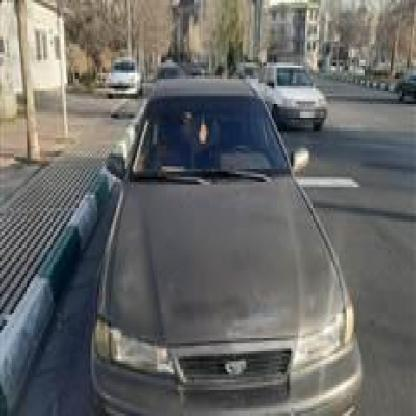Car: (102, 75, 369, 416), (255, 57, 329, 140), (104, 52, 139, 101), (388, 70, 416, 107)
